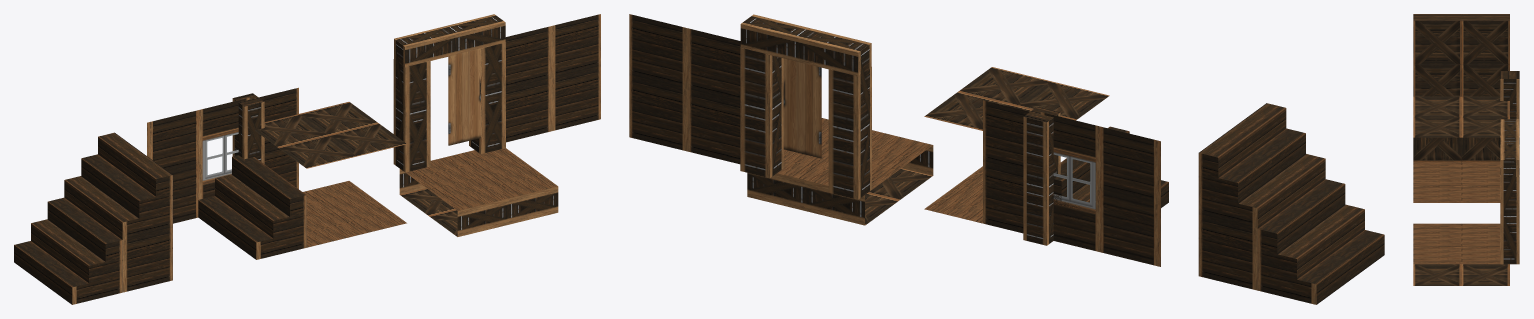
The model's file is WoodInteriorTileset.fbx.
3 views of the same model, side by side, from view 1: azimuth 30°, elevation 25°; view 2: azimuth 150°, elevation 25°; view 3: azimuth 270°, elevation 25° (orthographic). The views are drawn at different scales.
Visible parts, largest first — view 1: woodStairs2x2, woodDoorFrame, woodWall, woodPlatform, woodStairs1x1, woodWindow_GlassPlane, woodCeiling, woodFloor, woodDoor, woodWallHalf, woodPillar; view 2: woodStairs2x2, woodDoorFrame, woodWall, woodWindow_GlassPlane, woodPlatform, woodCeiling, woodWallHalf, woodPillar, woodDoor, woodPlatformEdge, woodStairs1x1, woodFloor; view 3: woodStairs2x2, woodPlatform, woodCeiling, woodFloor, woodDoorFrame, woodStairs1x1, woodPillar.
Part boxes in pixels (x1=…): woodStairs2x2: x1=14, y1=132, x2=172, y2=304; woodDoorFrame: x1=393, y1=14, x2=505, y2=172; woodWall: x1=505, y1=14, x2=600, y2=142; woodPlatform: x1=400, y1=148, x2=558, y2=236; woodStairs1x1: x1=198, y1=155, x2=306, y2=259; woodWindow_GlassPlane: x1=147, y1=97, x2=249, y2=223; woodCeiling: x1=254, y1=102, x2=406, y2=168; woodFloor: x1=303, y1=181, x2=406, y2=247; woodDoor: x1=448, y1=48, x2=480, y2=145; woodWallHalf: x1=259, y1=87, x2=298, y2=188; woodPillar: x1=232, y1=93, x2=264, y2=163; woodStairs2x2: x1=1198, y1=103, x2=1384, y2=304; woodDoorFrame: x1=740, y1=14, x2=871, y2=199; woodWall: x1=629, y1=14, x2=740, y2=164; woodWindow_GlassPlane: x1=1040, y1=112, x2=1160, y2=266; woodPlatform: x1=777, y1=118, x2=933, y2=225; woodCeiling: x1=924, y1=67, x2=1109, y2=130; woodWallHalf: x1=983, y1=100, x2=1029, y2=233; woodPillar: x1=1023, y1=107, x2=1060, y2=245; woodDoor: x1=783, y1=58, x2=821, y2=158; woodPlatformEdge: x1=747, y1=173, x2=864, y2=225; woodStairs1x1: x1=1053, y1=126, x2=1168, y2=241; woodFloor: x1=924, y1=166, x2=982, y2=223; woodStairs2x2: x1=1413, y1=14, x2=1509, y2=96; woodPlatform: x1=1413, y1=223, x2=1509, y2=285; woodCeiling: x1=1413, y1=96, x2=1509, y2=137; woodFloor: x1=1413, y1=162, x2=1500, y2=202; woodDoorFrame: x1=1500, y1=119, x2=1519, y2=264; woodStairs1x1: x1=1413, y1=137, x2=1500, y2=162; woodPillar: x1=1500, y1=71, x2=1519, y2=135.
Bounding box in the file's own units: 1166 × 288 × 220.
1 material, 1 textured.
